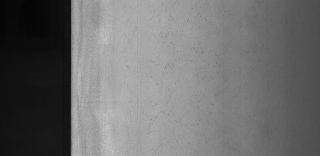silk spot: (137, 8, 220, 106)
